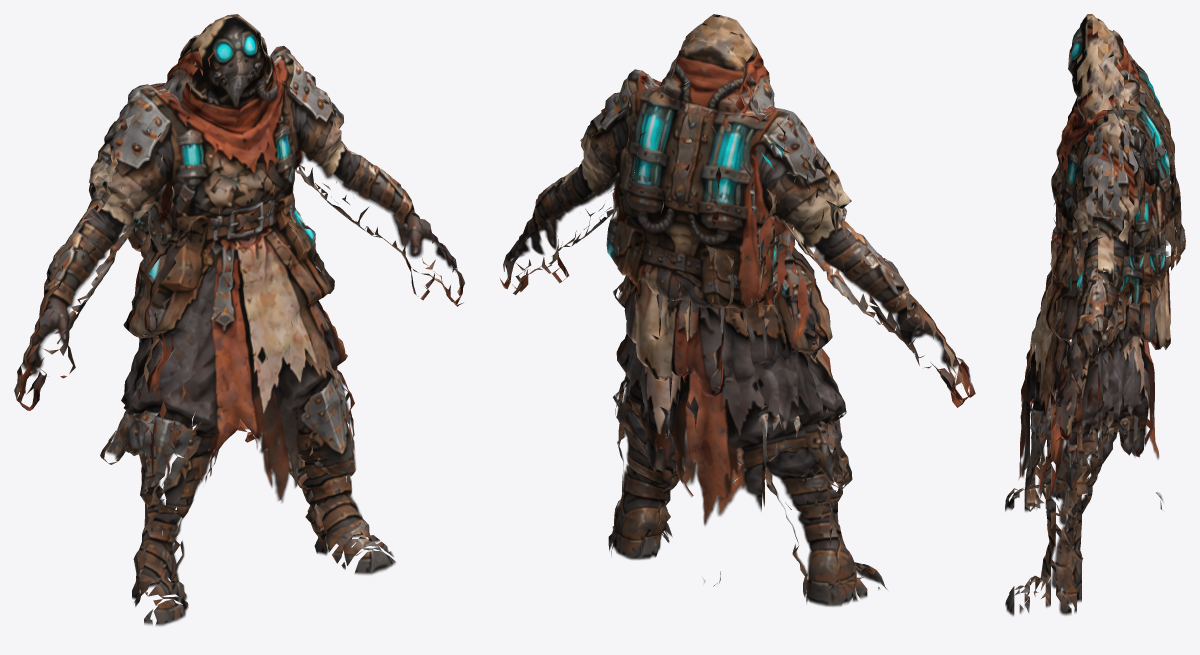
File: hero-multiview-r2.glb
3 views of the same model, side by side, from view 1: azimuth 30°, elevation 25°; view 2: azimuth 150°, elevation 25°; view 3: azimuth 270°, elevation 25° (orthographic). The views are drawn at different scales.
Parts seen in each view (by area): view 1: geometry_0; view 2: geometry_0; view 3: geometry_0.
Boxes of the visible parts, x1,y1,x2,y2 form: geometry_0: (14, 14, 464, 625); geometry_0: (500, 14, 975, 606); geometry_0: (1005, 14, 1185, 615).
Size of the model in its own units: 0.8279 by 1.03 by 0.2959.
Materials: 4 (4 with a texture image).
